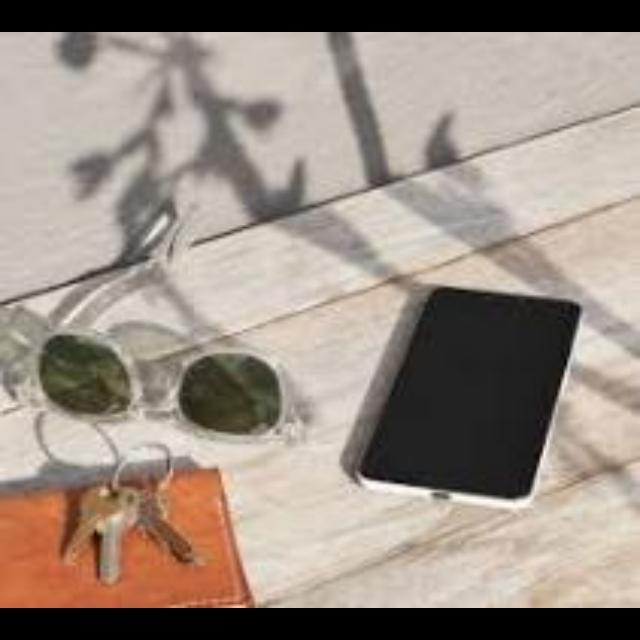Phone: (358, 286, 582, 507)
